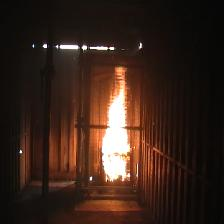fire: (102, 67, 131, 182)
